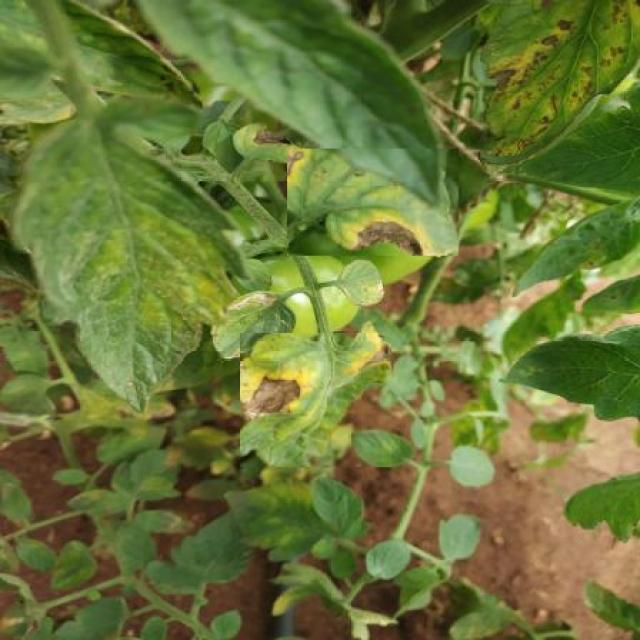Early Blight: (240, 333, 391, 468), (288, 148, 459, 255)
